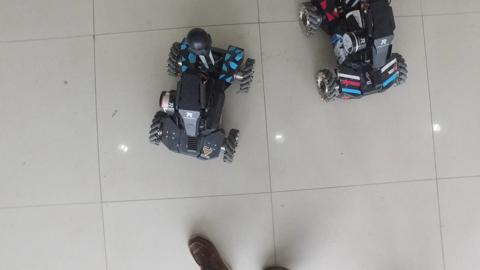chariot: (141, 26, 262, 174), (295, 1, 411, 112)
